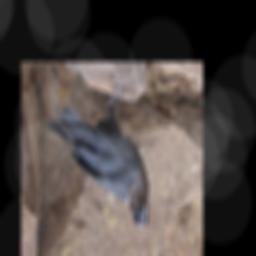Crow: (44, 62, 149, 230)
